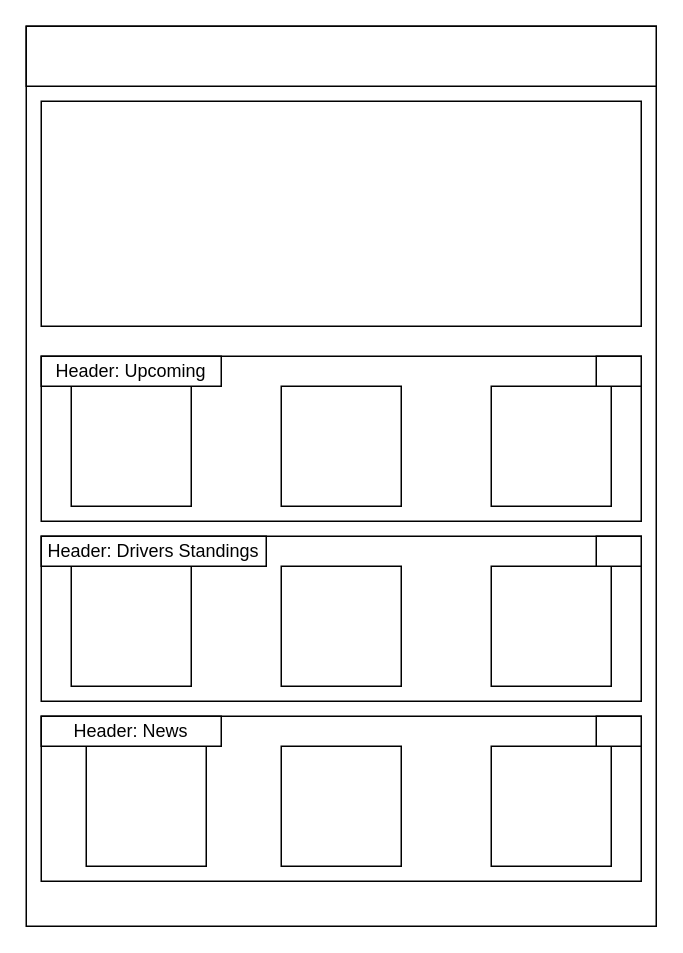
This 683x953 diagram has some shape labels left out. Each missing label, with the centre of its shape:
"Header" goes at [340,55].
"Next Race" goes at [340,213].
